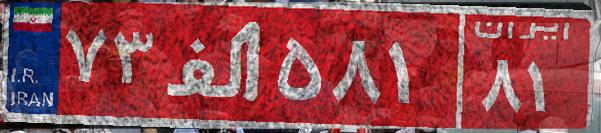1: (385, 28, 445, 110), (525, 38, 570, 115)
3: (110, 28, 158, 105)
5: (273, 28, 330, 110)
7: (57, 26, 110, 107)
8: (330, 28, 385, 110), (475, 38, 525, 113)
الف: (158, 15, 273, 115)
